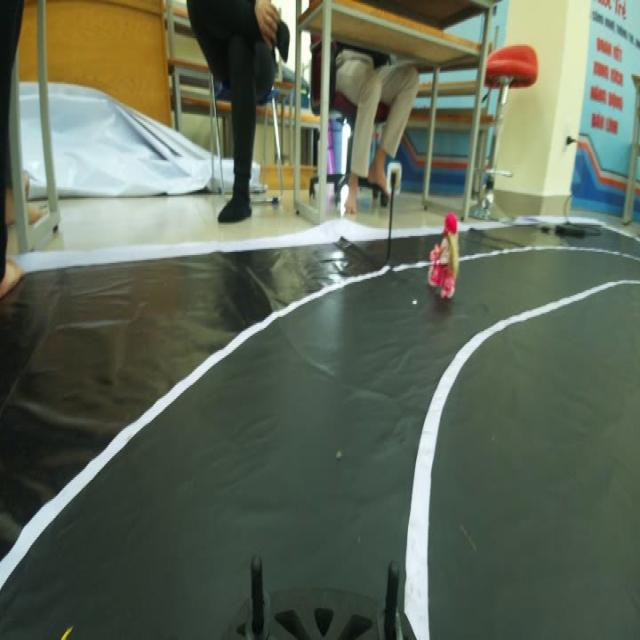pedestrian: (429, 202, 463, 305)
